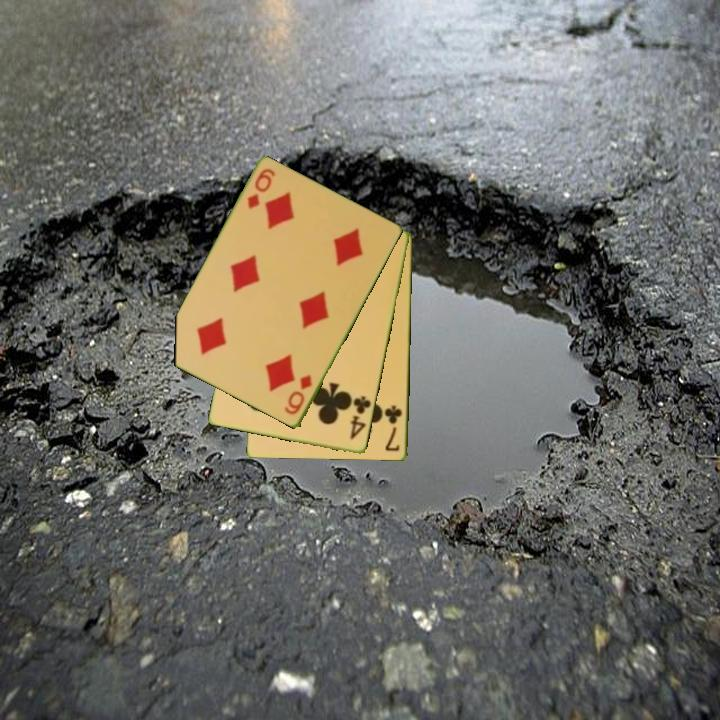4c: (347, 393, 374, 443)
6d: (244, 165, 278, 213), (281, 371, 315, 418)
7c: (382, 402, 405, 454)
